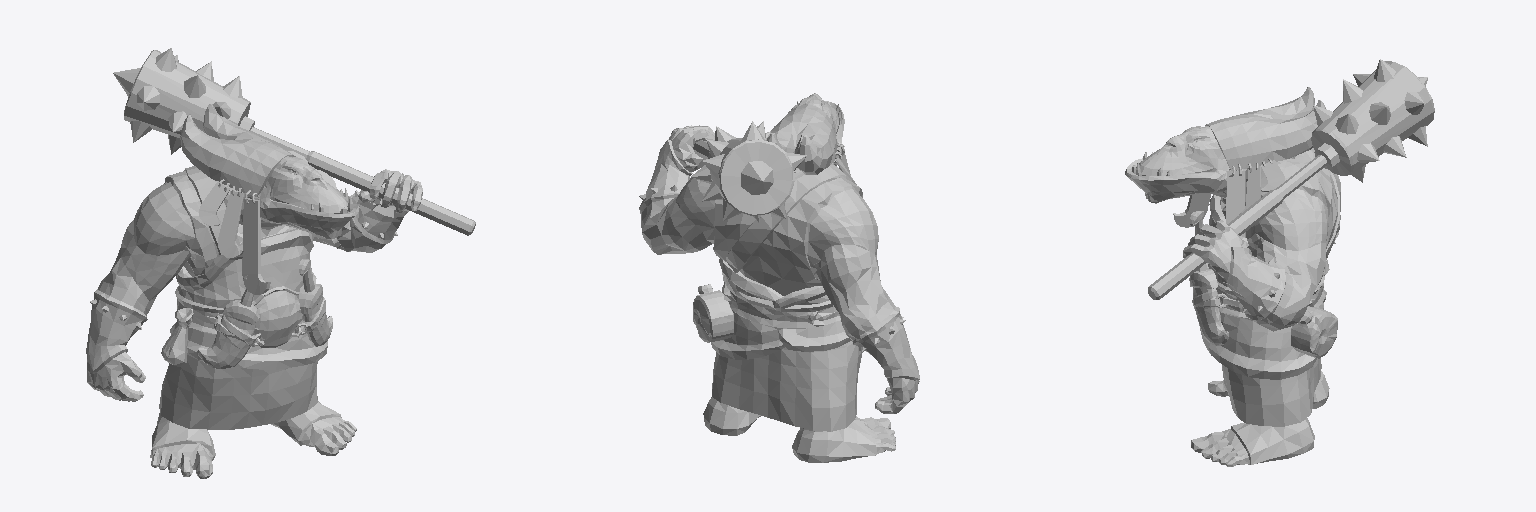
File: Orc_Posed_lowpoly.obj
The picture shows the model from 3 angles: view 1: azimuth 30°, elevation 25°; view 2: azimuth 150°, elevation 25°; view 3: azimuth 270°, elevation 25°; orthographic projection.
Visible parts, largest first — view 1: polySurface340, polySurface338; view 2: polySurface340, polySurface338; view 3: polySurface340, polySurface338.
Boxes of the visible parts, box(x1,y1,x2,y2) form: polySurface340: box(86, 156, 422, 478); polySurface338: box(113, 48, 475, 369); polySurface340: box(639, 93, 919, 462); polySurface338: box(671, 104, 856, 222); polySurface340: box(1125, 126, 1340, 466); polySurface338: box(1148, 59, 1434, 345).
Size of the model in its own units: 22.48 by 24.54 by 19.12.